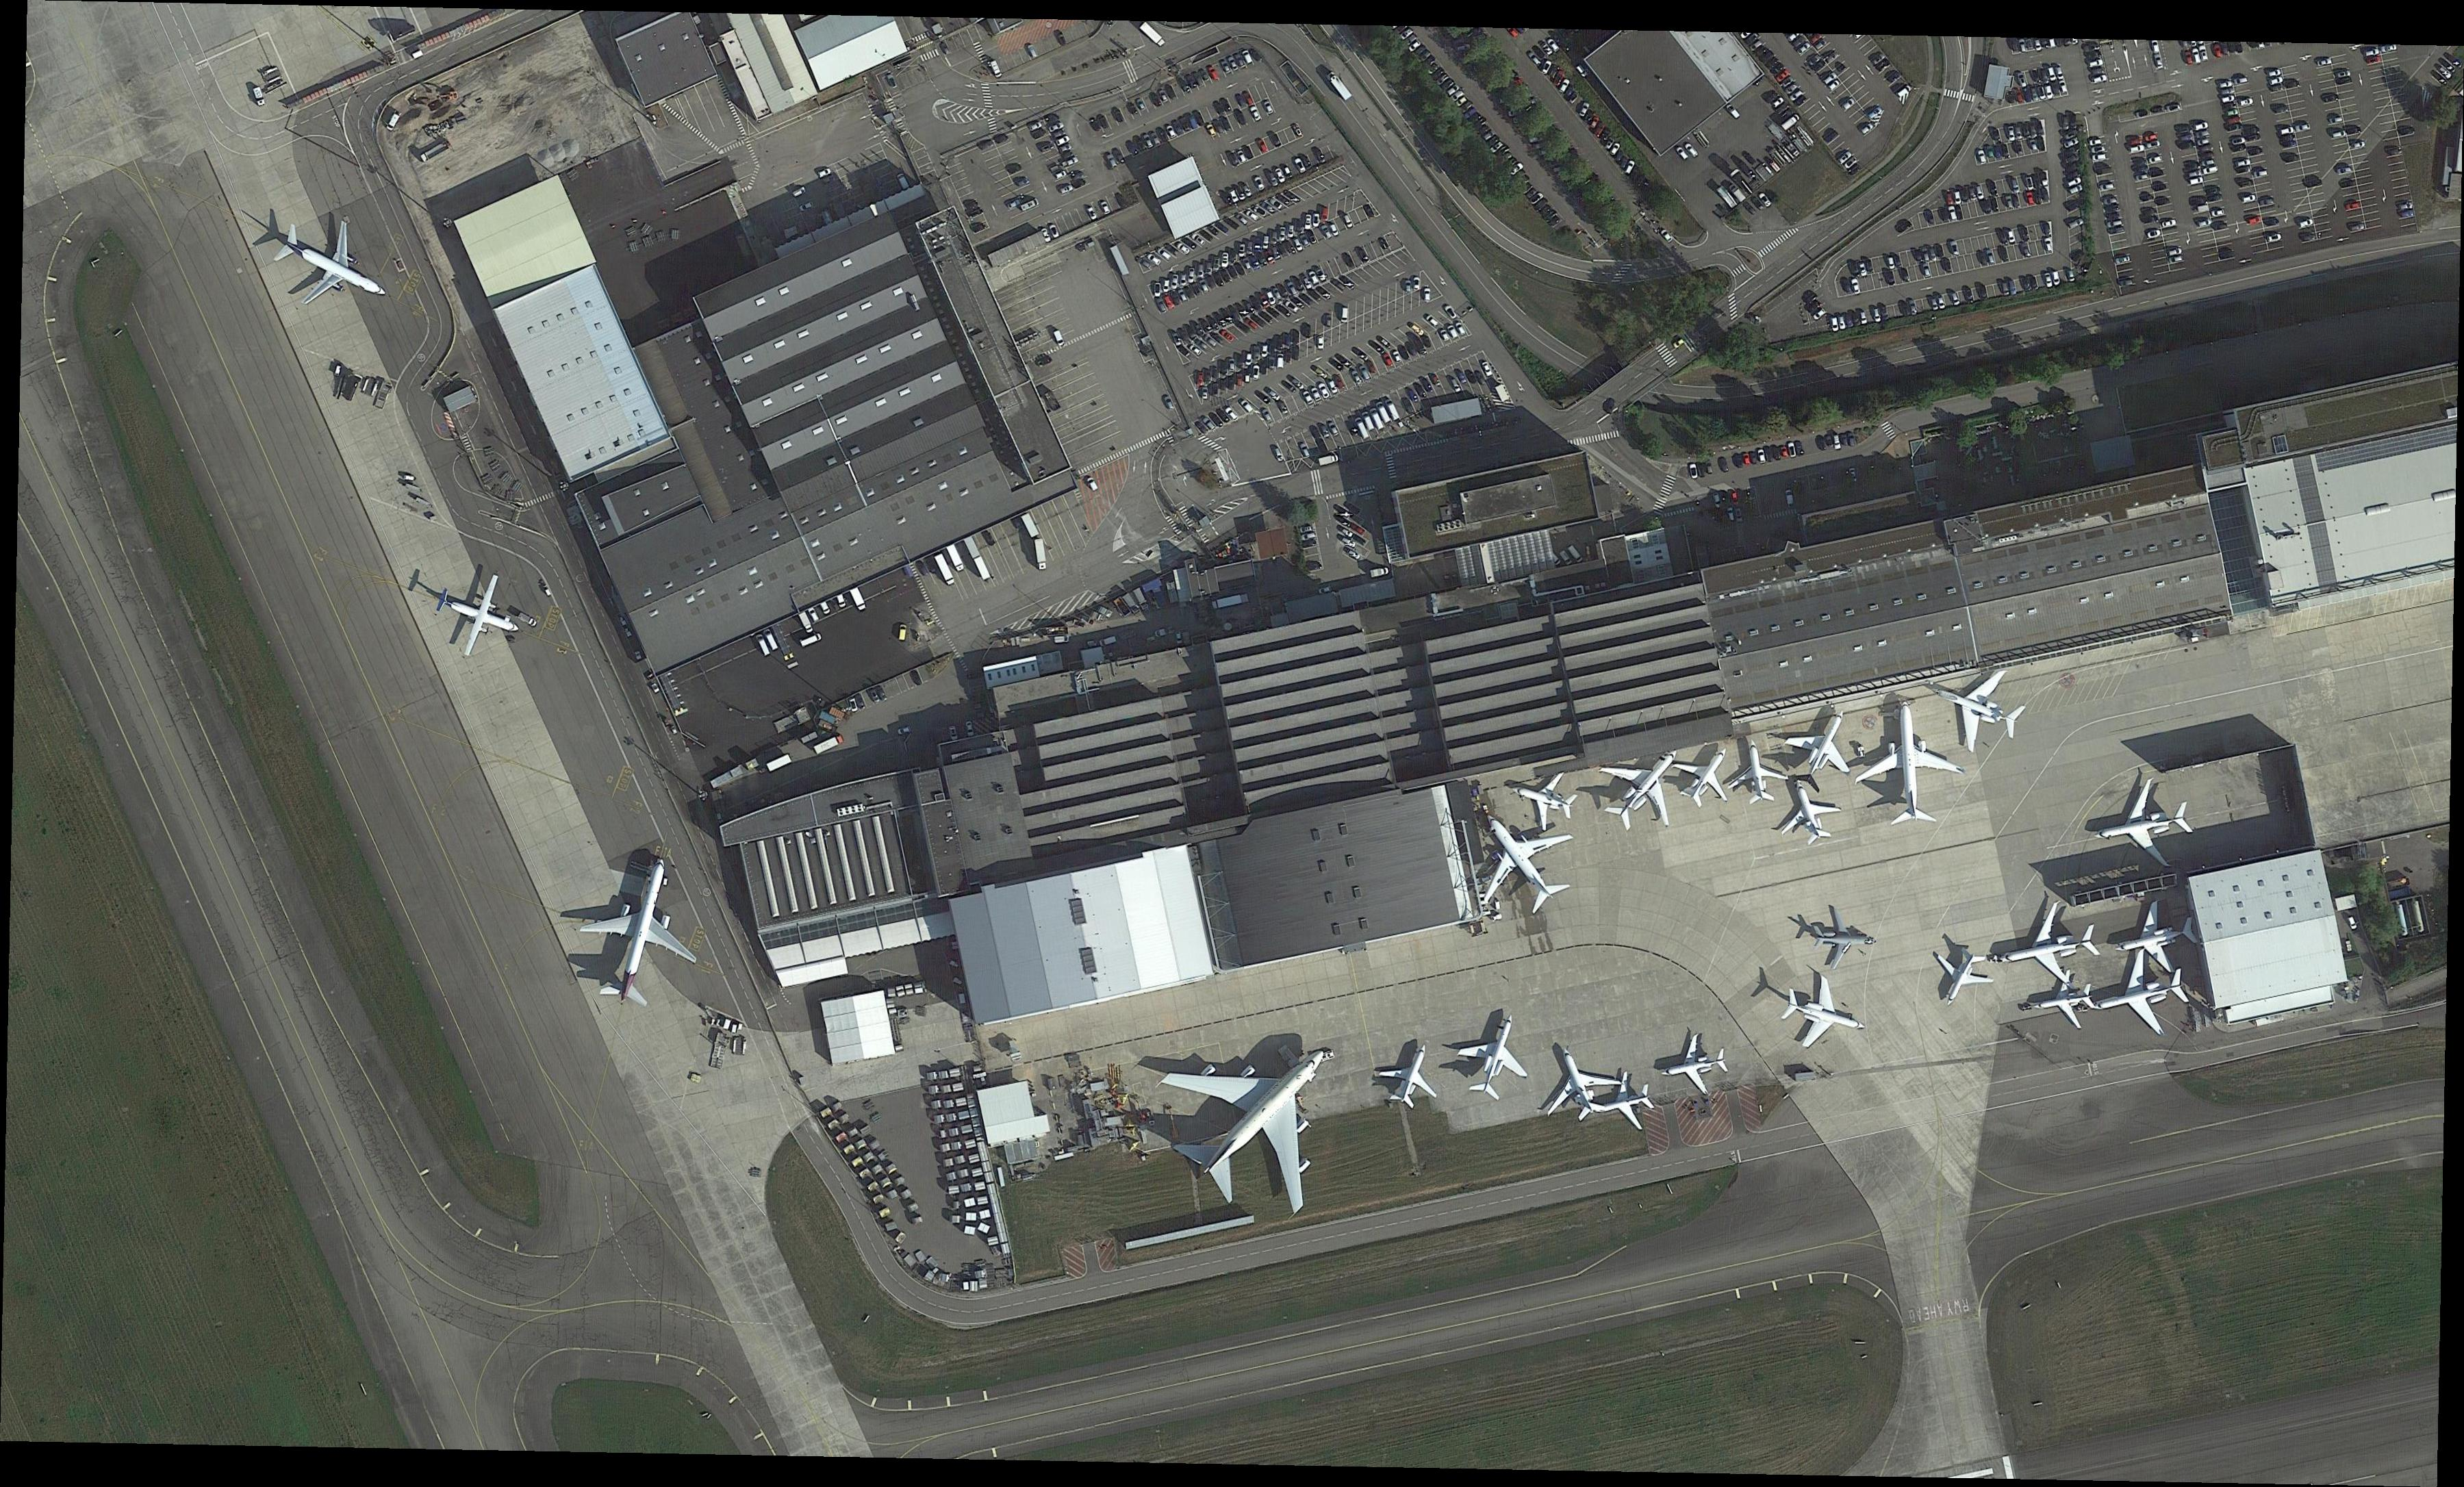plane: (1109, 966, 1413, 1252), (548, 835, 721, 1026), (1449, 791, 1610, 949), (406, 547, 550, 682), (1572, 720, 1709, 858), (1853, 687, 1972, 836), (1916, 643, 2048, 770), (2081, 772, 2207, 880), (1985, 892, 2107, 1001), (2083, 945, 2200, 1054), (1444, 991, 1548, 1110), (1531, 1028, 1631, 1143), (1768, 962, 1881, 1060), (1776, 694, 1879, 797), (1914, 921, 2016, 1023), (1660, 727, 1752, 828), (1762, 767, 1857, 861), (2108, 891, 2209, 978), (1368, 1022, 1456, 1115), (1500, 752, 1592, 837), (1654, 1028, 1741, 1105), (1585, 1064, 1668, 1140), (1799, 898, 1883, 971), (1725, 728, 1794, 818), (2024, 967, 2106, 1042)
